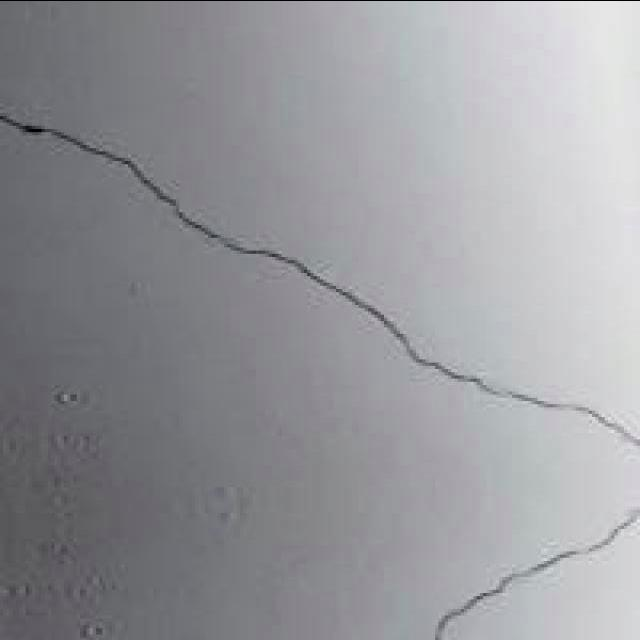SurfaceCrack: (404, 510, 640, 640)
